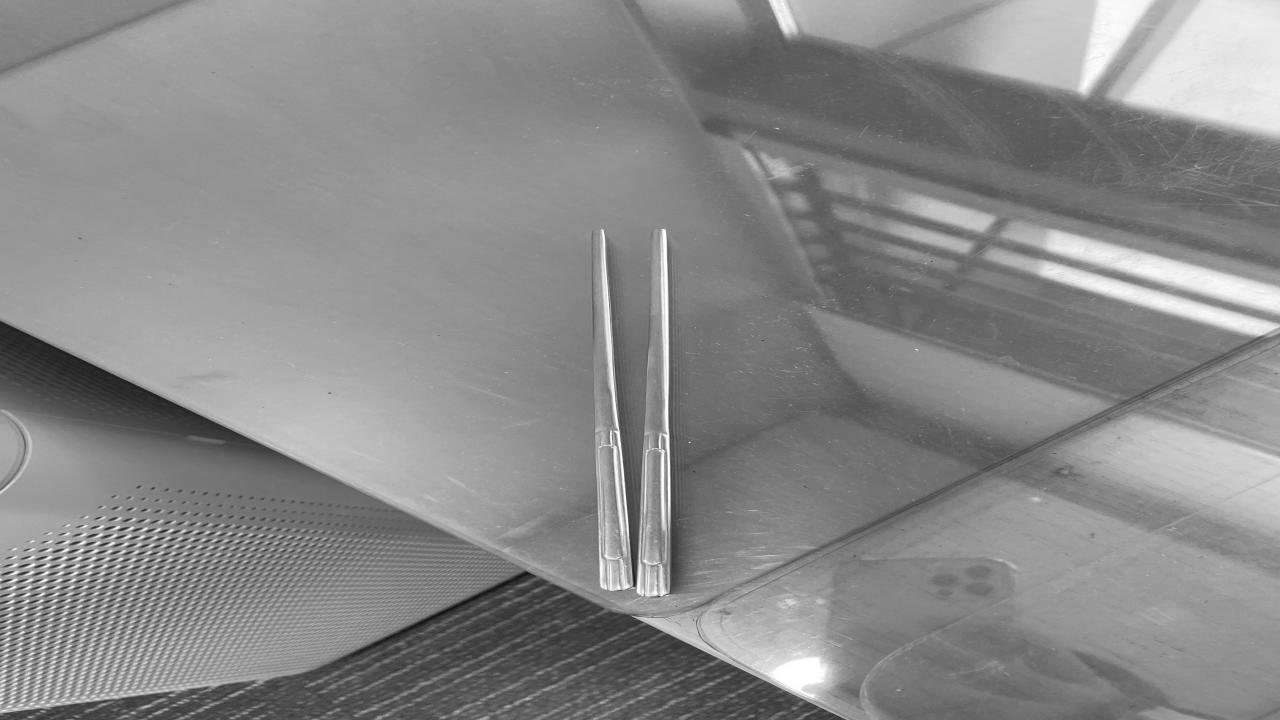chopstick: (578, 226, 680, 598)
